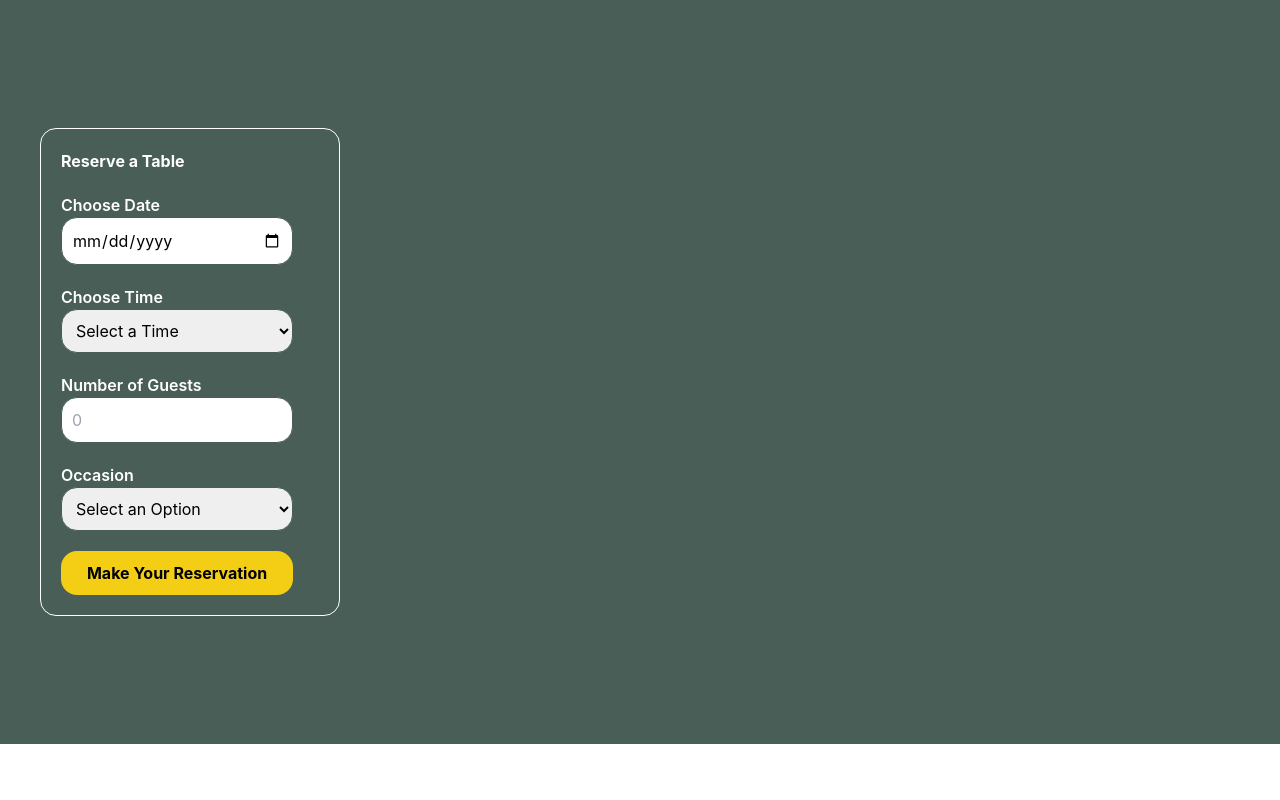
Scenario: BookingForm › shows validation errors when submitting empty form
Click the button with test id "submit-button".
click(177, 573)  # box left=61, top=551, right=293, bottom=595
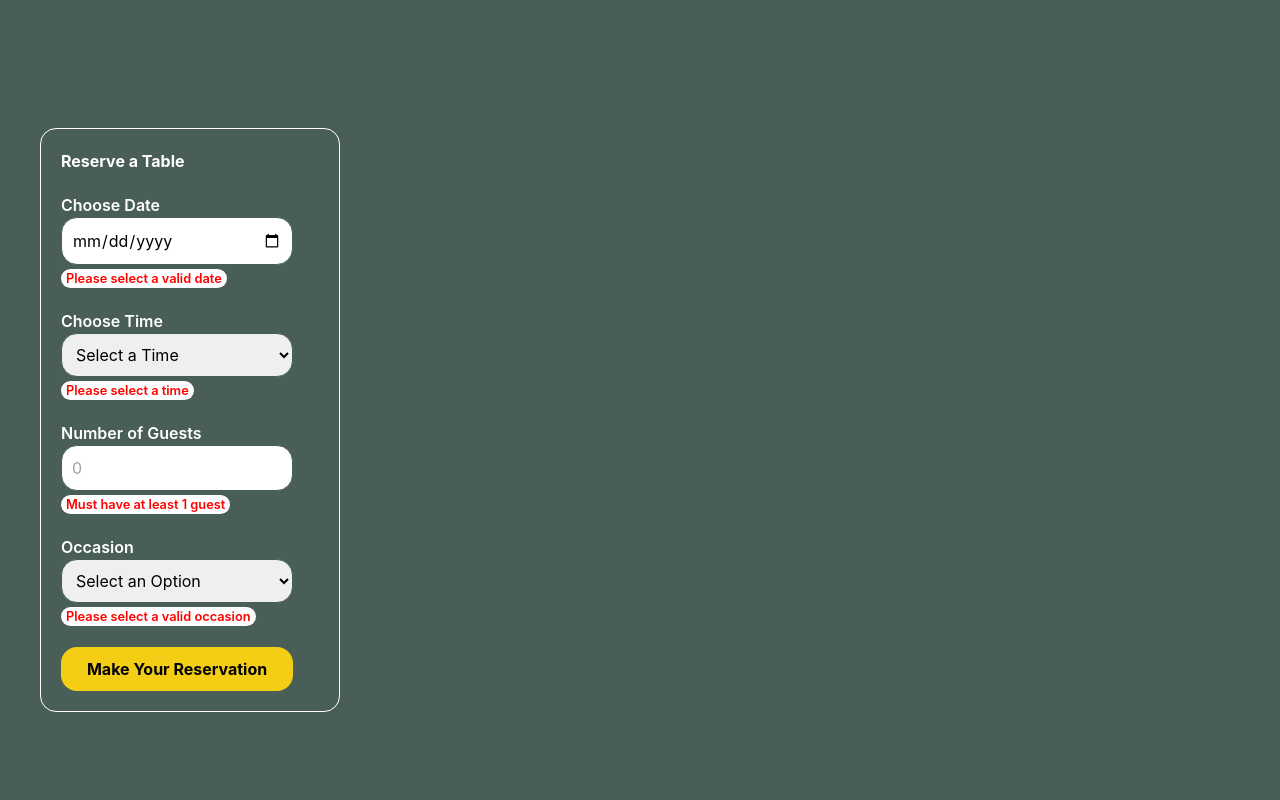
Expected: the text "Please select a valid date" is shown, left=61, top=269, right=227, bottom=288
Expected: the text "Please select a time" is shown, left=61, top=381, right=194, bottom=400
Expected: the text "Must have at least 1 guest" is shown, left=61, top=495, right=230, bottom=514
